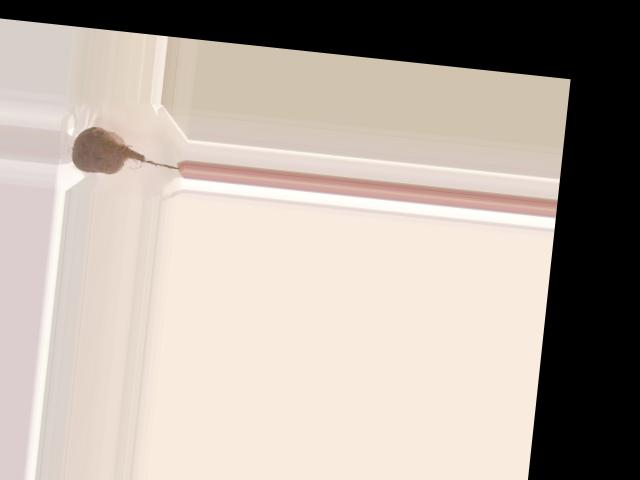beet: (70, 124, 184, 181)
